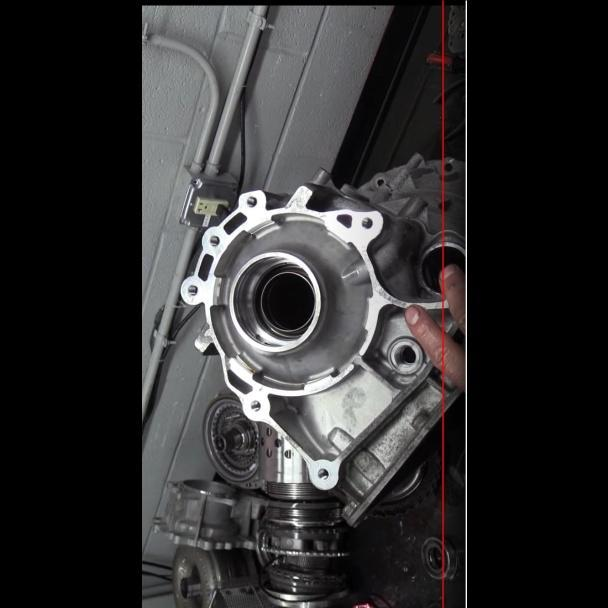hole: (360, 215, 375, 230), (317, 466, 330, 480), (245, 193, 258, 207), (249, 397, 261, 412), (185, 283, 198, 296), (208, 232, 220, 246)
